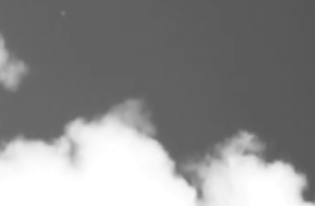Target: (63, 12, 65, 15)
